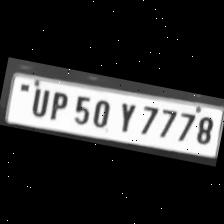0: (88, 96, 116, 130)
5: (67, 92, 93, 126)
7: (153, 104, 181, 141), (132, 102, 160, 138), (172, 107, 194, 143)
8: (190, 111, 217, 146)
P: (44, 88, 70, 122)
U: (24, 82, 52, 119)
Y: (111, 98, 140, 135)
